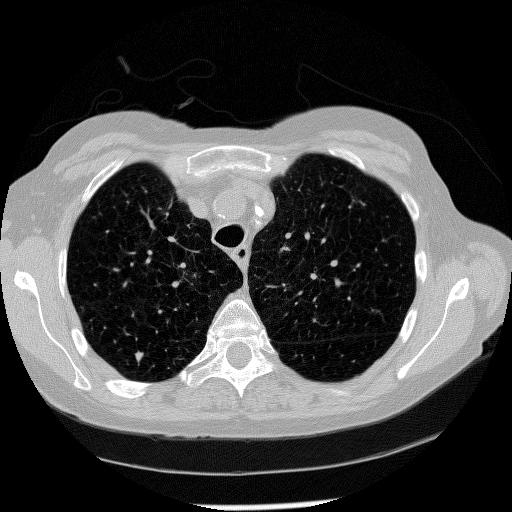nodule: (131, 349, 147, 365)
